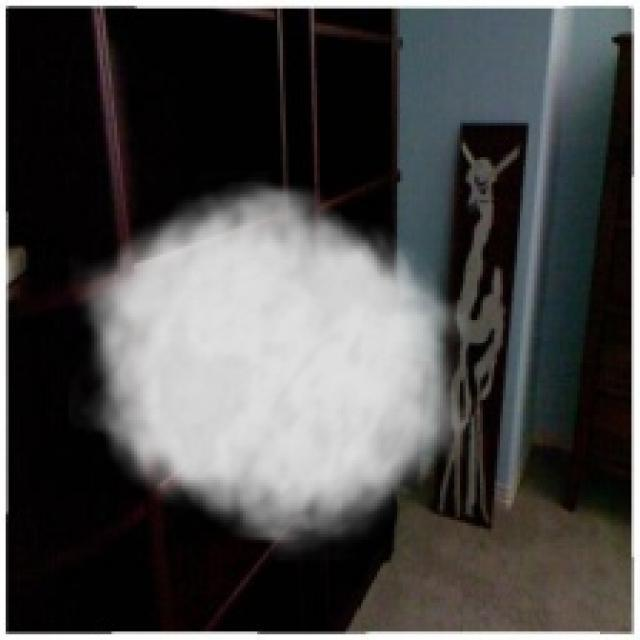Smoke: (69, 171, 472, 563)
